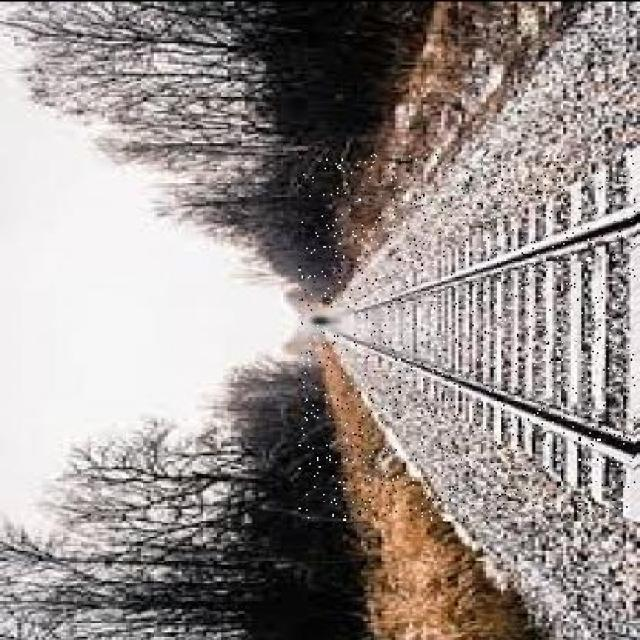rail: (301, 153, 636, 520)
